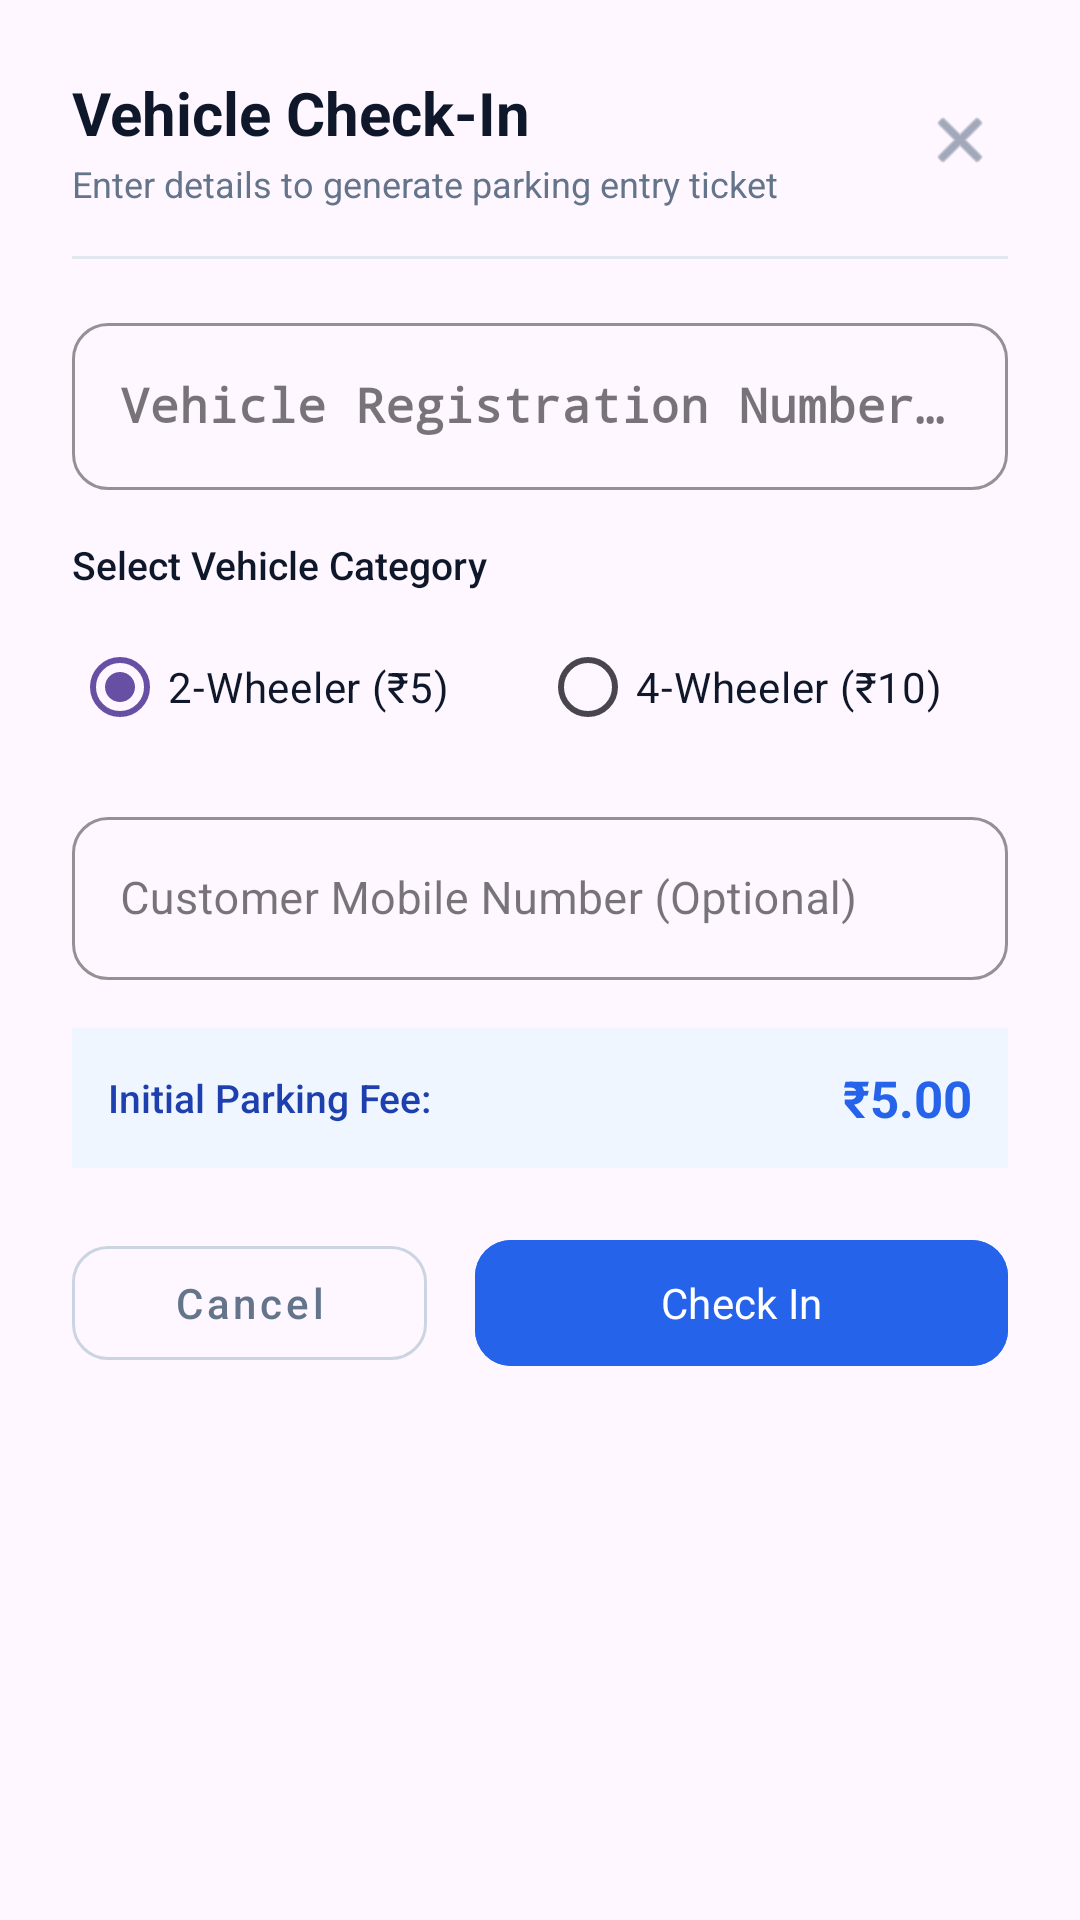

Screen size 1080 x 1920. Icon name, then its box in pixels as (left=x1, top=y1, right=x2, bottom=y2):
Close: (left=938, top=118, right=982, bottom=162)
